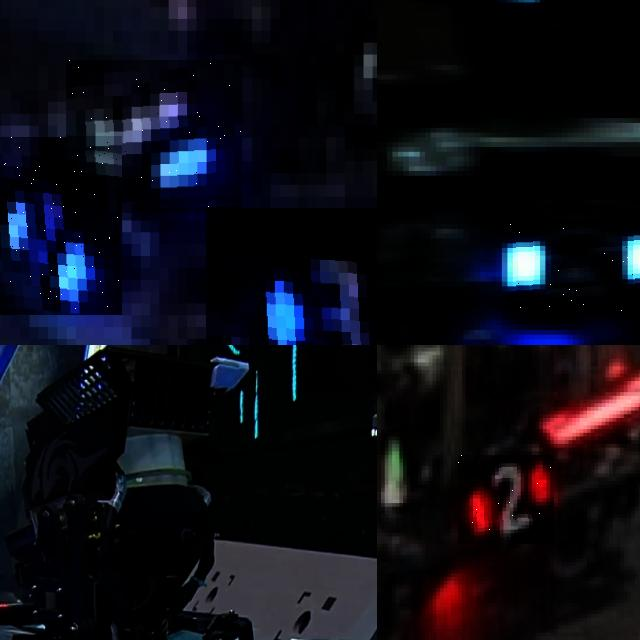B3: (66, 60, 242, 214), (205, 208, 377, 345), (0, 137, 122, 315)
Bs: (507, 224, 640, 310)
R2: (458, 455, 554, 544)
